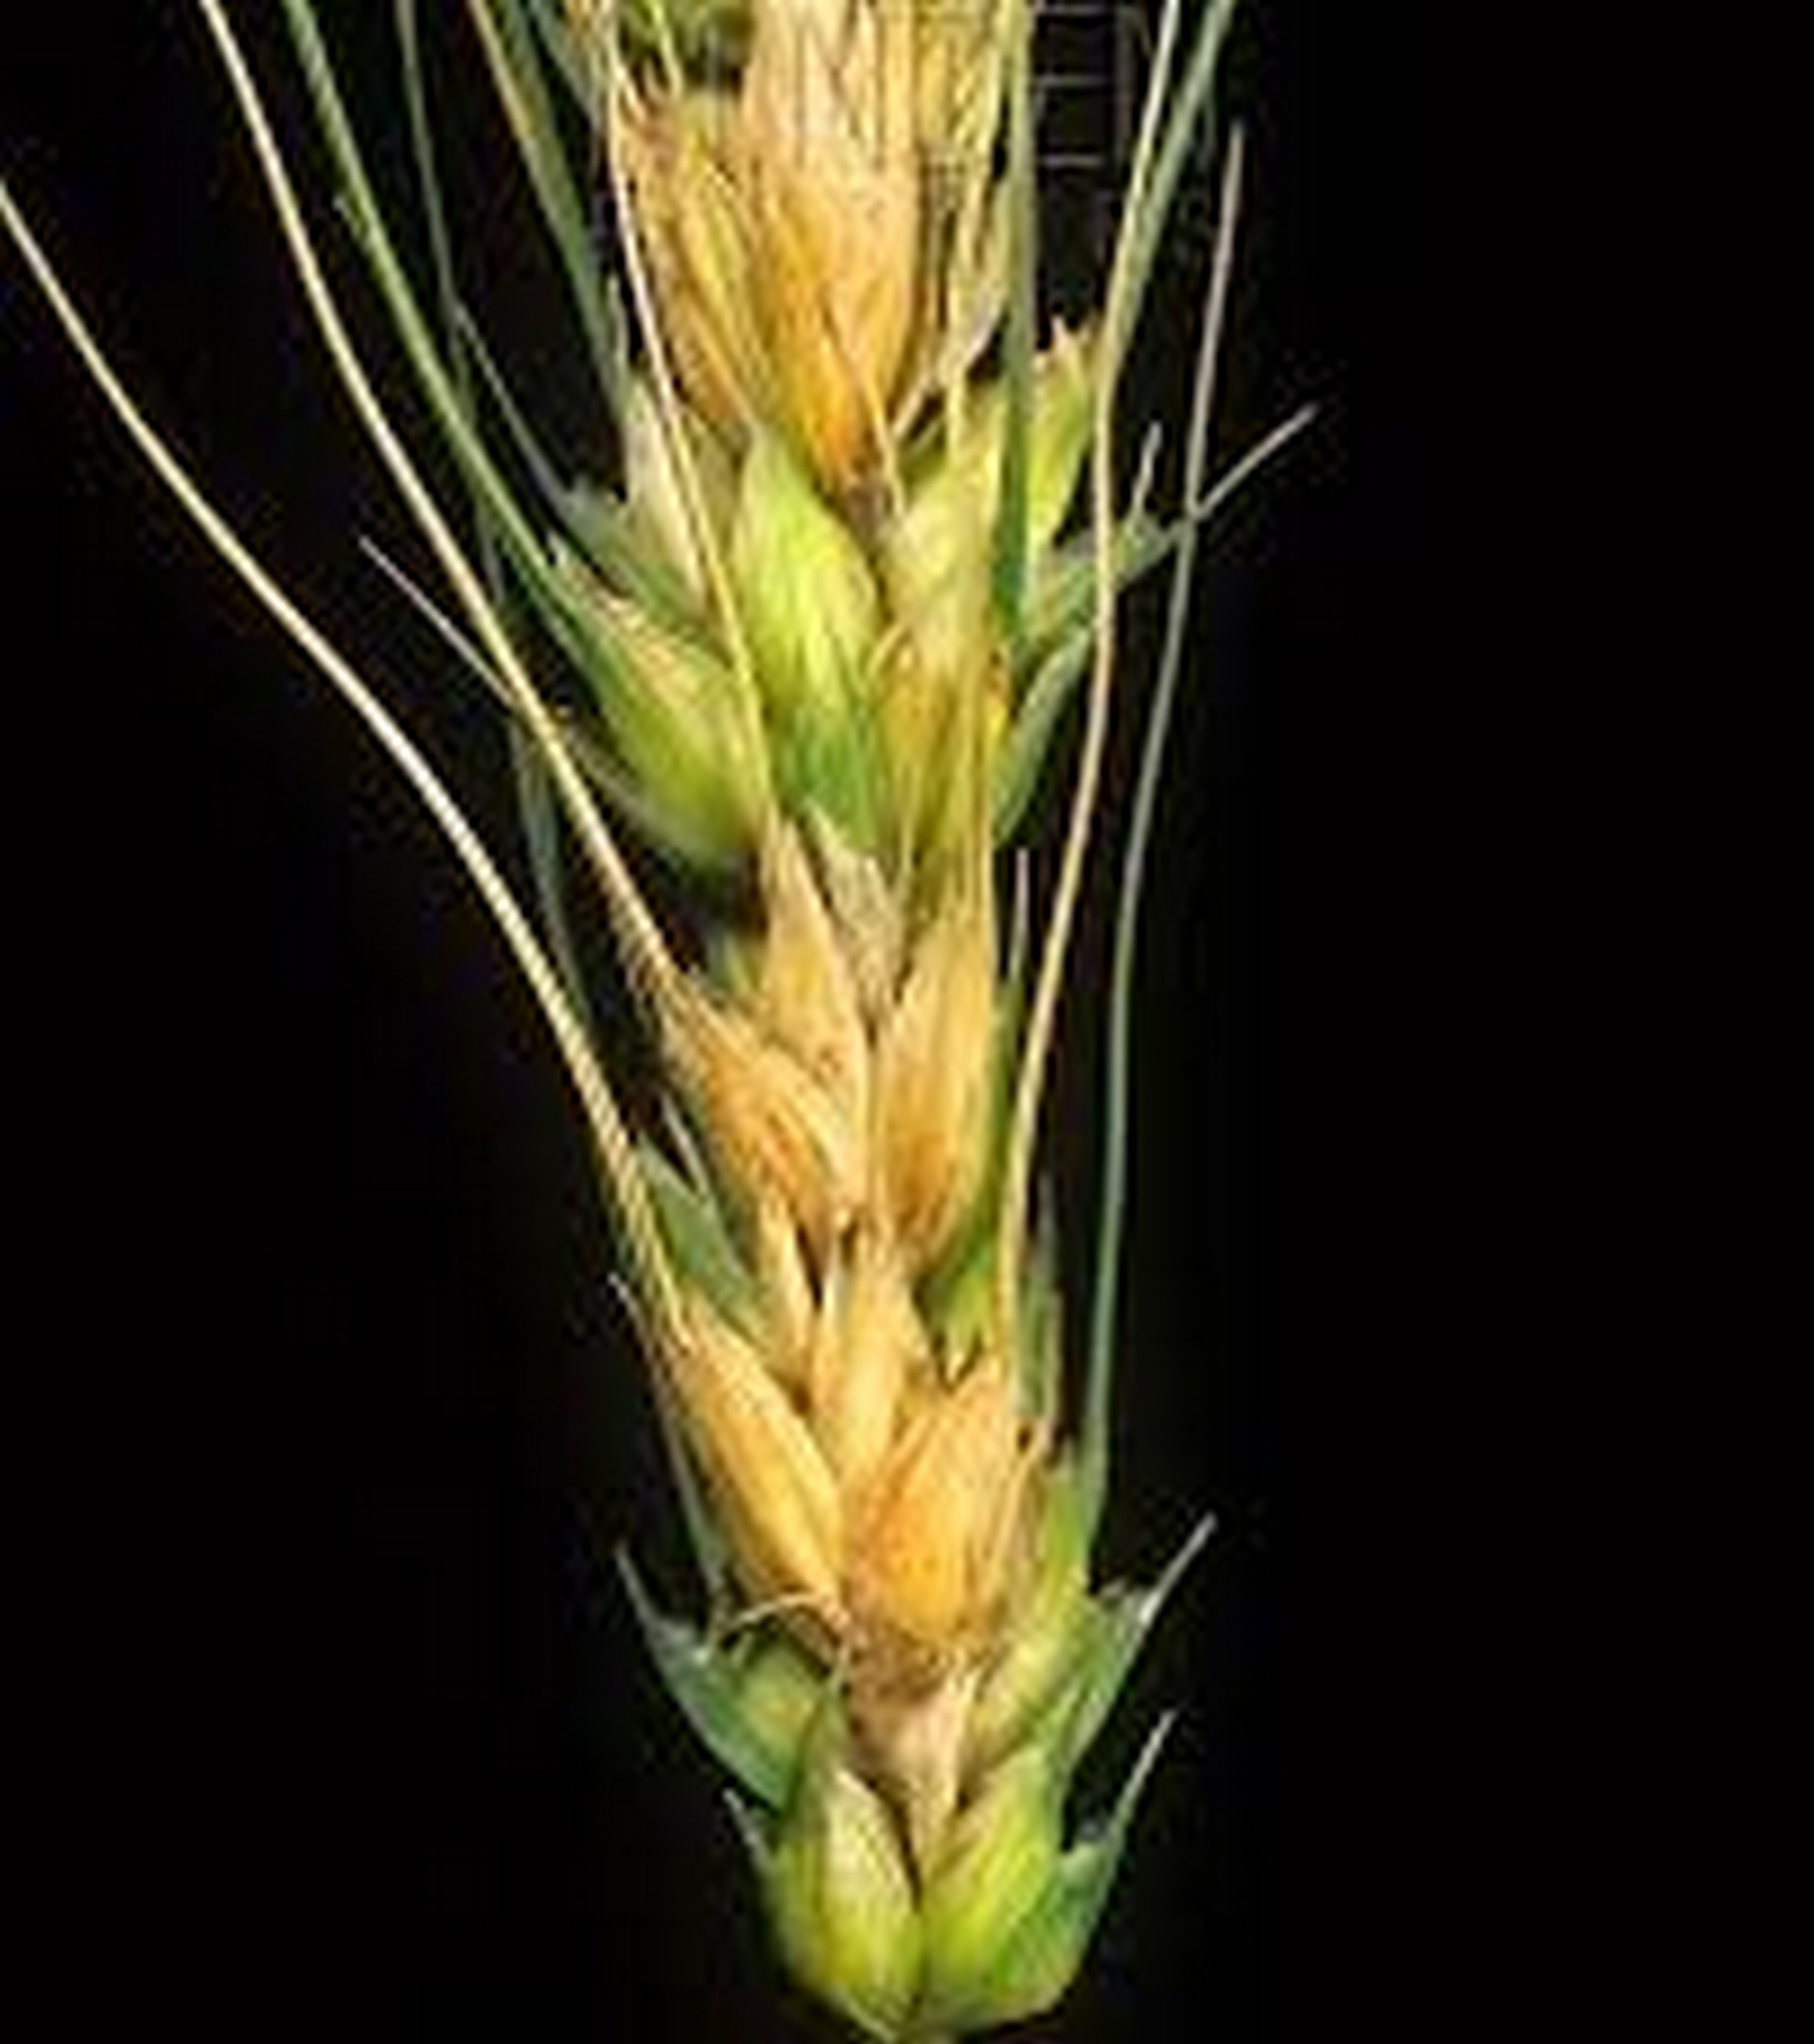Wheat scab: (469, 42, 1220, 2044)
